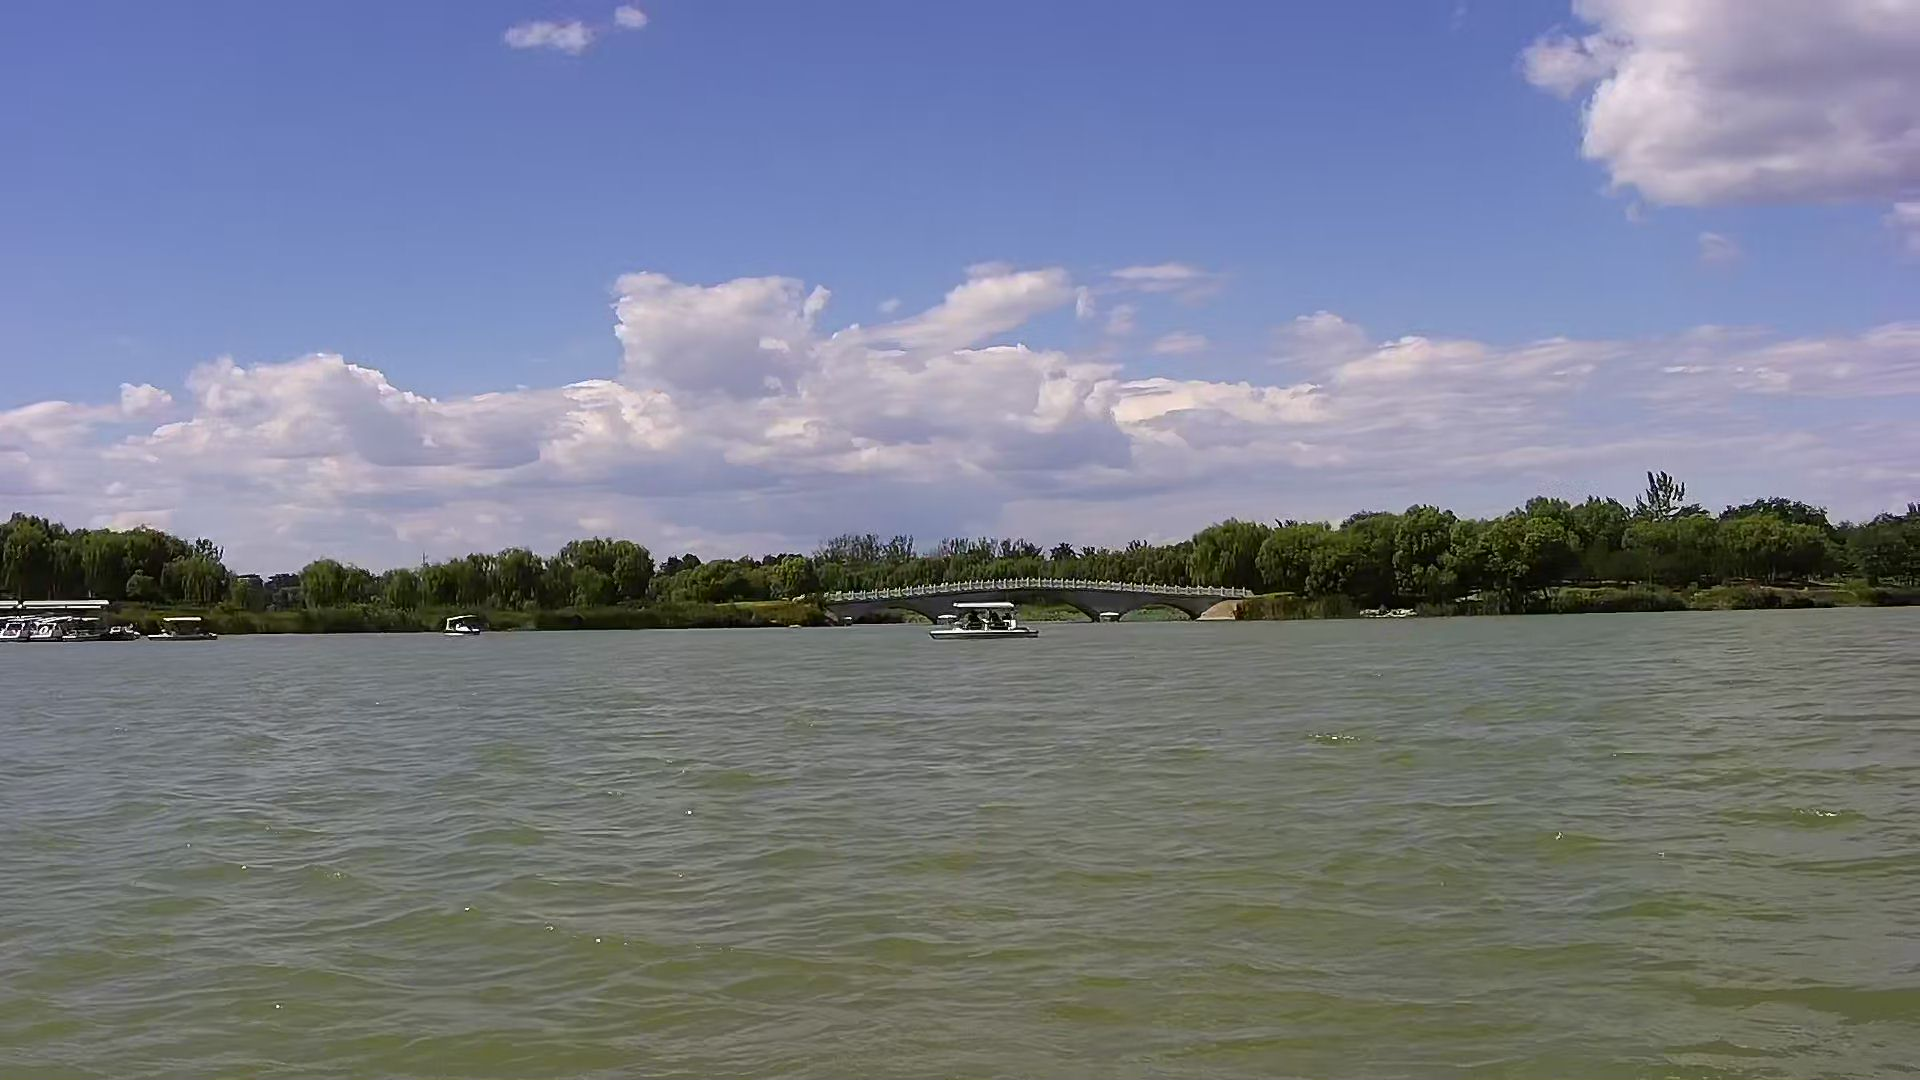boat: (931, 597, 1047, 662), (138, 611, 233, 647), (433, 608, 497, 640)
bridge: (815, 574, 1261, 632)
